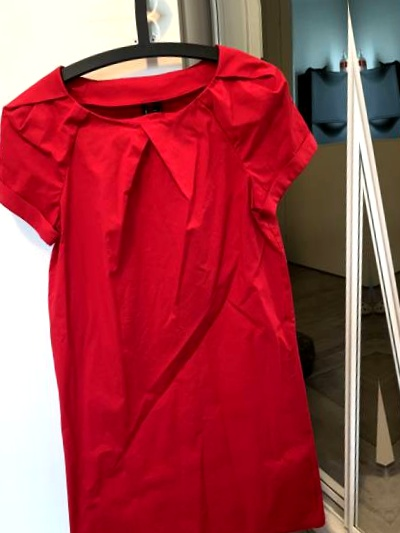Dress: (0, 27, 358, 533), (384, 0, 400, 533), (0, 55, 13, 533), (0, 0, 313, 7)
